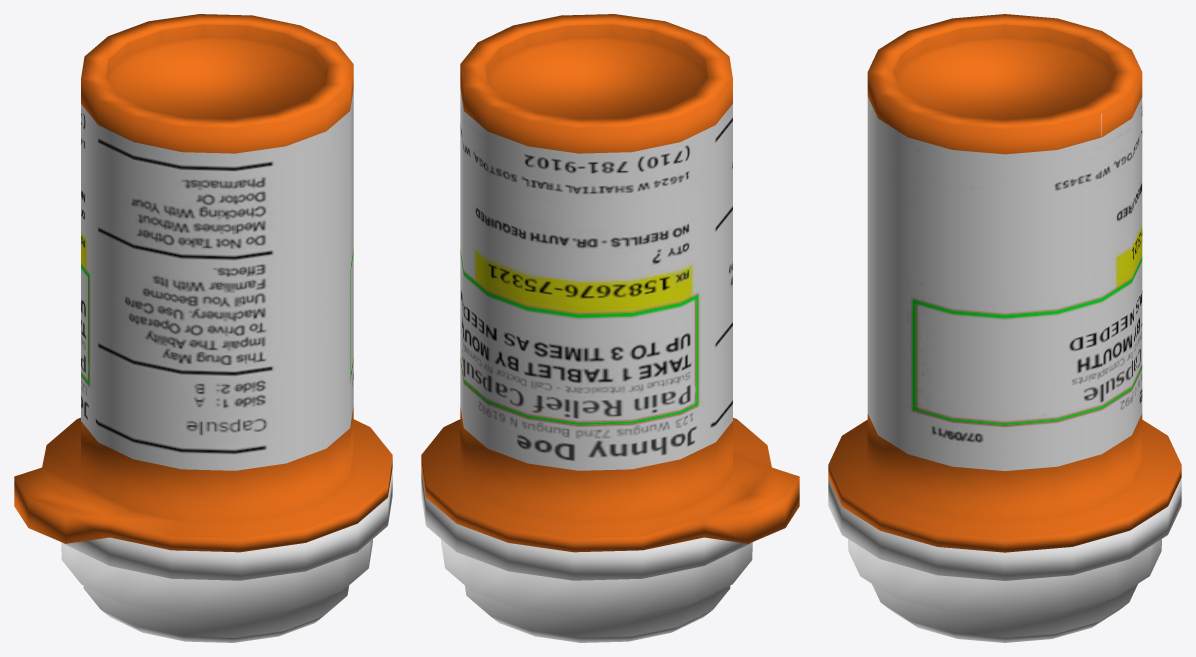
The model's file is SM_Pills_001.fbx.
3 renders of one model, left to right at view 1: azimuth 30°, elevation 25°; view 2: azimuth 150°, elevation 25°; view 3: azimuth 270°, elevation 25°, orthographic.
Parts seen in each view (by area): view 1: Pills.001; view 2: Pills.001; view 3: Pills.001.
Part boxes in pixels (<box>): Pills.001: <box>14,14,392,642</box>; Pills.001: <box>421,14,799,642</box>; Pills.001: <box>828,14,1181,642</box>.
Size of the model in its own units: 111 by 161 by 98.96.
